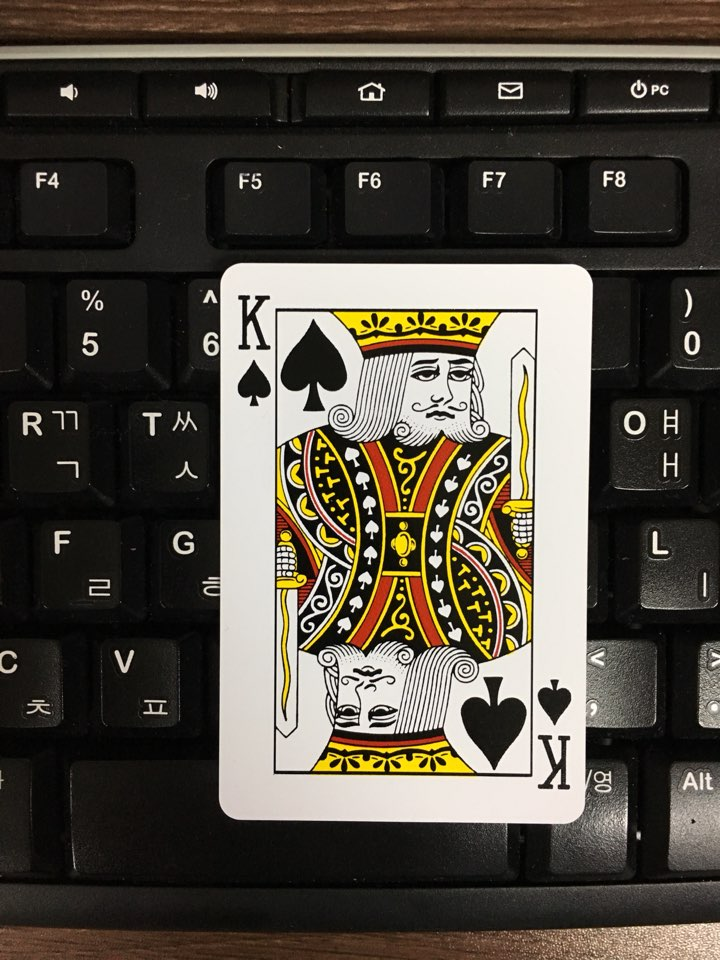king: (172, 223, 627, 853)
